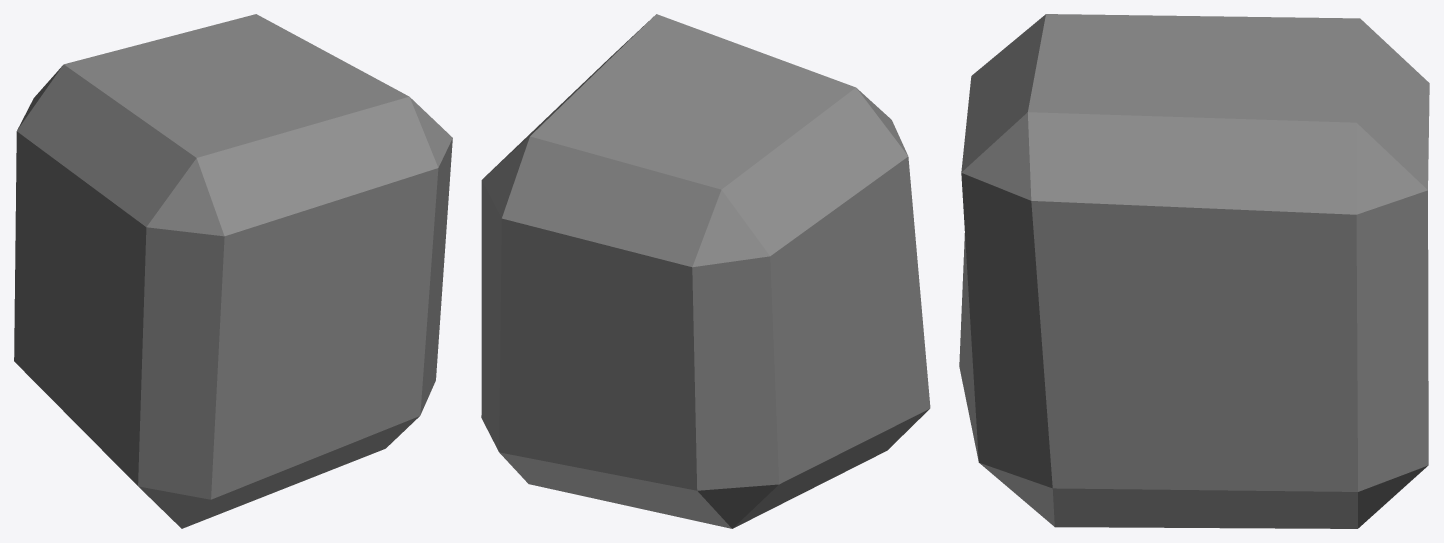
File: Brick_Small_02.fbx
3 renders of one model, left to right at view 1: azimuth 30°, elevation 25°; view 2: azimuth 150°, elevation 25°; view 3: azimuth 270°, elevation 25°, orthographic. The views are drawn at different scales.
Visible parts, largest first — view 1: Brick_Small_02; view 2: Brick_Small_02; view 3: Brick_Small_02.
Part boxes in pixels (left/top/right/bottom): Brick_Small_02: left=14, top=14, right=452, bottom=528; Brick_Small_02: left=481, top=14, right=930, bottom=528; Brick_Small_02: left=959, top=14, right=1429, bottom=528.
Bounding box in the file's own units: 18.15 × 20.66 × 19.81.
